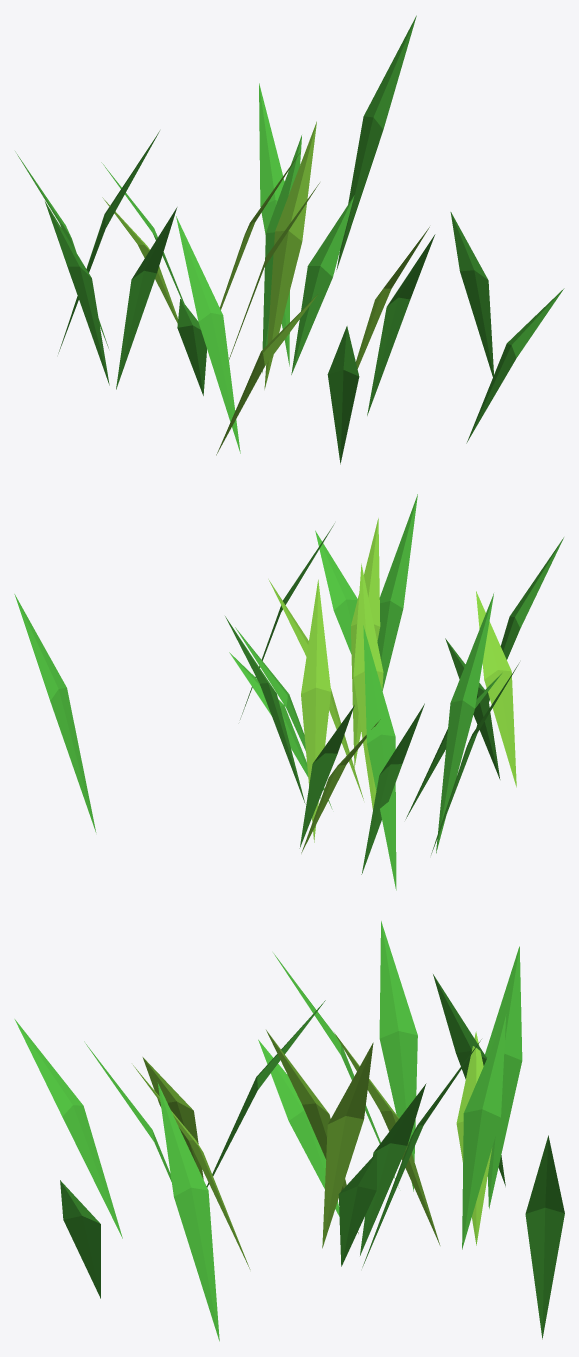
Rendered from aq_seagrass_patch.fbx.
3 views of the same model, one above another, from view 1: azimuth 30°, elevation 25°; view 2: azimuth 150°, elevation 25°; view 3: azimuth 270°, elevation 25° (orthographic). The views are drawn at different scales.
Visible parts, largest first — view 1: aq_seagrass_patch; view 2: aq_seagrass_patch; view 3: aq_seagrass_patch.
Part boxes in pixels (x1,y1,x2,y2): aq_seagrass_patch: [15, 15, 564, 464]; aq_seagrass_patch: [14, 494, 563, 890]; aq_seagrass_patch: [14, 921, 564, 1341].
Bounding box in the file's own units: 1 × 0.5 × 1.
